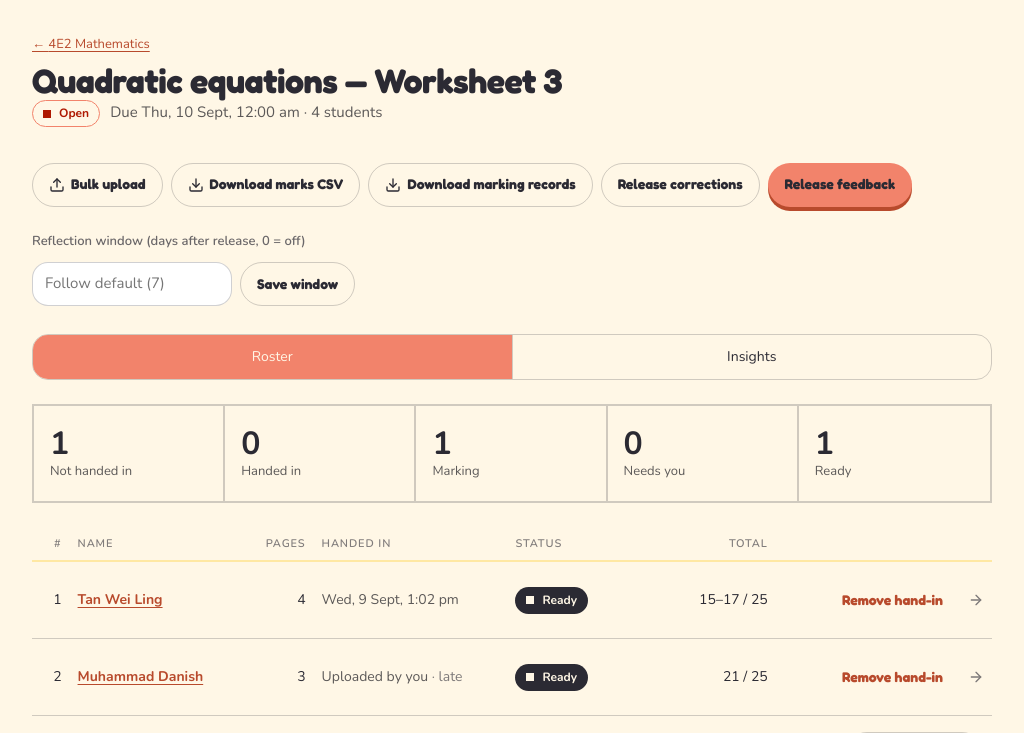
Test: ClassAssignmentPage › releases feedback after confirming and downloads the CSV
Click the button "Release feedback": [840, 185] box x1=768 y1=163 x2=912 y2=207
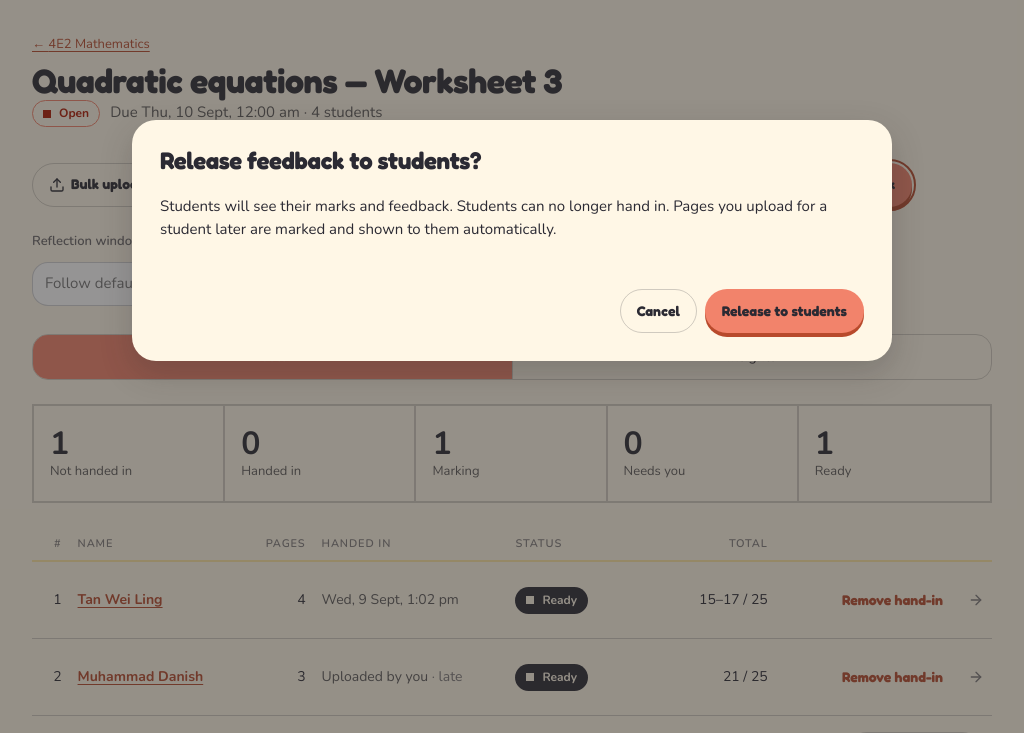
Expected: the text "Students can no longer hand in. Pages you upload for a student later are marked and shown to them automatically." is shown, x1=160 y1=196 x2=827 y2=239
Click the button "Release to students": [784, 311] box x1=705 y1=289 x2=864 y2=333
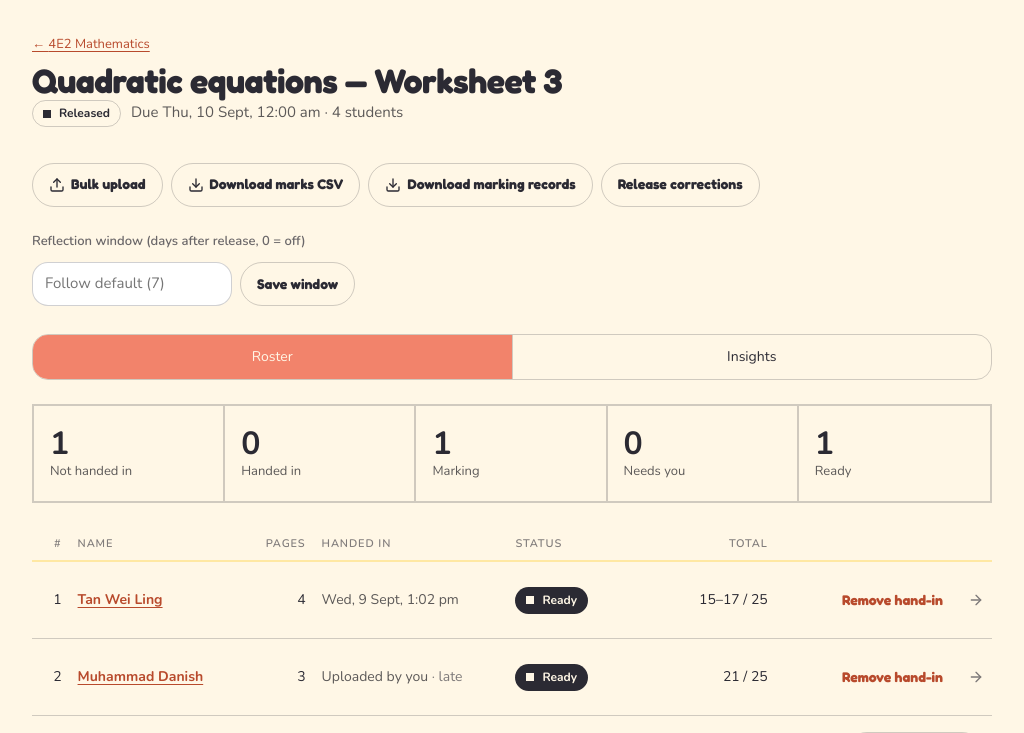
Expected: the text "Released" is shown, x1=32 y1=100 x2=121 y2=127
